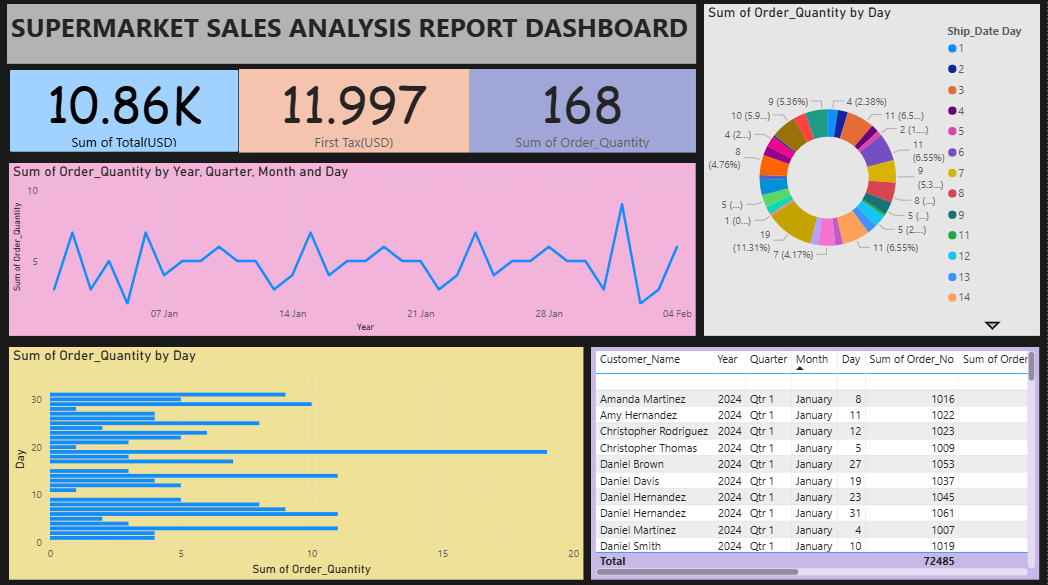

The page's visual inventory and layout, read from the dashboard file:
{"tool":"powerbi","page":{"name":"Page 1","canvas":[1280,720],"ordinal":0},"visuals":[{"type":"card","fields":{"Values":["SuperMarket Sales.Total(USD)"]},"box":[12.4,89.5,280.8,101.8],"z":0},{"type":"card","fields":{"Values":["SuperMarket Sales.Tax(USD)"]},"box":[293.2,89.5,280.8,101.8],"z":1000},{"type":"card","fields":{"Values":["SuperMarket Sales.Order_Quantity"]},"box":[573.9,89.5,276.6,101.8],"z":2000},{"type":"lineChart","fields":{"Category":["SuperMarket Sales.Order_Date.Variation.Date Hierarchy.Year","SuperMarket Sales.Order_Date.Variation.Date Hierarchy.Quarter","SuperMarket Sales.Order_Date.Variation.Date Hierarchy.Month","SuperMarket Sales.Order_Date.Variation.Date Hierarchy.Day"],"Y":["SuperMarket Sales.Order_Quantity"]},"box":[12.4,203.7,838.2,210.6],"z":3000},{"type":"donutChart","fields":{"Category":["SuperMarket Sales.Ship_Date.Variation.Date Hierarchy.Day"],"Y":["SuperMarket Sales.Order_Quantity"]},"box":[860.2,9.6,410.2,404.6],"z":4000},{"type":"barChart","fields":{"Category":["SuperMarket Sales.Ship_Date.Variation.Date Hierarchy.Day"],"Y":["SuperMarket Sales.Order_Quantity"]},"box":[12.4,428,700.6,283.5],"z":5000},{"type":"tableEx","fields":{"Values":["SuperMarket Sales.Customer_Name","SuperMarket Sales.Order_Date.Variation.Date Hierarchy.Year","SuperMarket Sales.Order_Date.Variation.Date Hierarchy.Quarter","SuperMarket Sales.Order_Date.Variation.Date Hierarchy.Month","SuperMarket Sales.Order_Date.Variation.Date Hierarchy.Day","SuperMarket Sales.Order_No","SuperMarket Sales.Order_Quantity","SuperMarket Sales.Retail_Price(USD)","SuperMarket Sales.Ship_Date.Variation.Date Hierarchy.Year","SuperMarket Sales.Ship_Date.Variation.Date Hierarchy.Quarter","SuperMarket Sales.Ship_Date.Variation.Date Hierarchy.Month","SuperMarket Sales.Ship_Date.Variation.Date Hierarchy.Day"]},"box":[722.7,427.9,547.5,283.9],"z":6000},{"type":"textbox","box":[9.6,9.6,840.9,72.9],"z":7000}]}

Visuals, with their boxes in screenshot pixels (x1, y1, x2, y2), scaled from the page's 1280x720 canvas onto the 1048x585 screenshot:
card - SuperMarket Sales.Total(USD): 10/73/240/155
card - SuperMarket Sales.Tax(USD): 240/73/470/155
card - SuperMarket Sales.Order_Quantity: 470/73/696/155
lineChart - SuperMarket Sales.Order_Date.Variation.Date Hierarchy.Year x SuperMarket Sales.Order_Date.Variation.Date Hierarchy.Quarter: 10/166/696/337
donutChart - SuperMarket Sales.Ship_Date.Variation.Date Hierarchy.Day x SuperMarket Sales.Order_Quantity: 704/8/1040/337
barChart - SuperMarket Sales.Ship_Date.Variation.Date Hierarchy.Day x SuperMarket Sales.Order_Quantity: 10/348/584/578
tableEx - SuperMarket Sales.Customer_Name x SuperMarket Sales.Order_Date.Variation.Date Hierarchy.Year: 592/348/1040/578
textbox: 8/8/696/67
